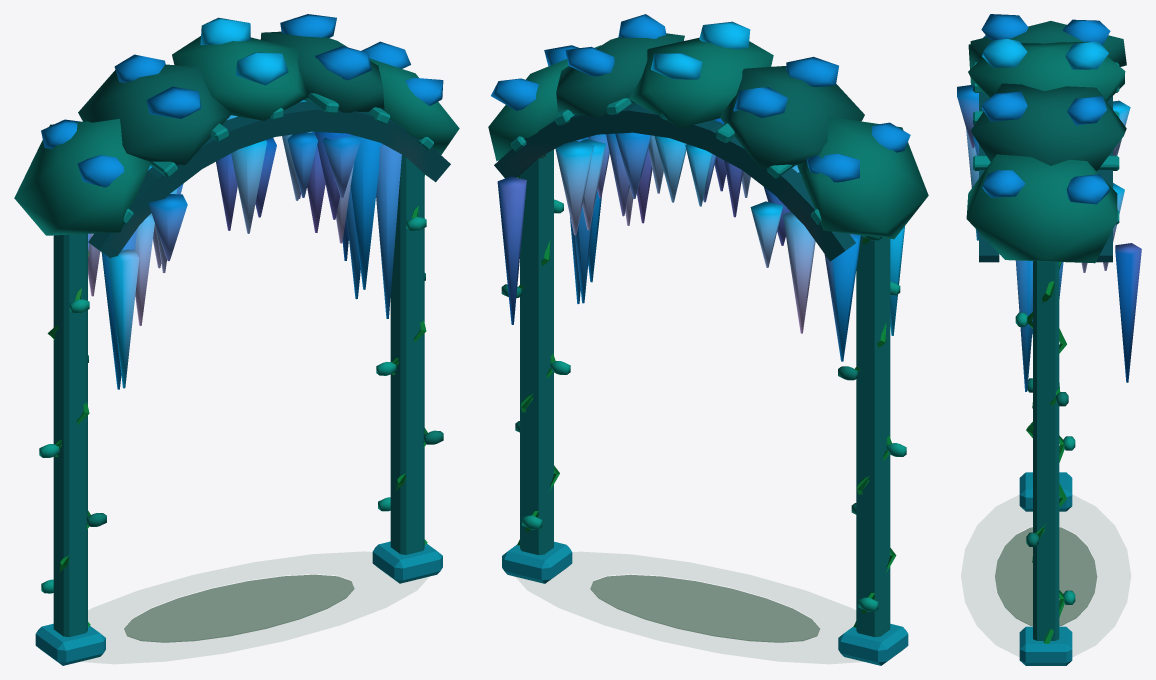
File: wisteria_arch.glb
The picture shows the model from 3 angles, left to right: view 1: azimuth 30°, elevation 25°; view 2: azimuth 150°, elevation 25°; view 3: azimuth 270°, elevation 25°; orthographic projection. The views are drawn at different scales.
Parts seen in each view (by area): view 1: wisteria_arch; view 2: wisteria_arch; view 3: wisteria_arch.
Part boxes in pixels (x1,y1,x2,y2): wisteria_arch: (14,14,459,665); wisteria_arch: (488,14,928,665); wisteria_arch: (957,14,1141,665).
Bounding box in the file's own units: 2.2 × 2.94 × 0.9103.
